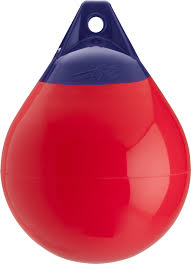buoy: (1, 79, 190, 264)
